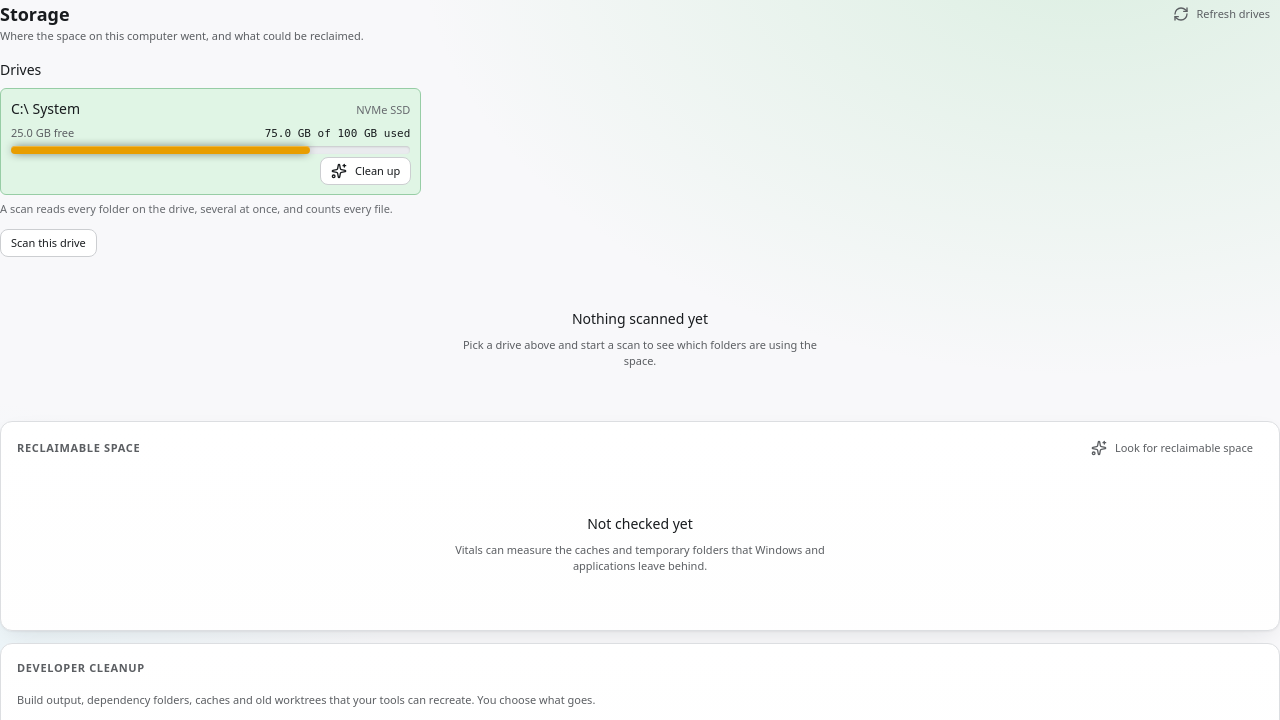
Scenario: StorageScreen › scanning › scans the whole drive: there is no depth choice to make
The image size is (1280, 720).
Check: the heading "Storage" is shown, box [0, 2, 70, 26]
Click the button "Scan this drive": (48, 243) [0, 229, 97, 257]
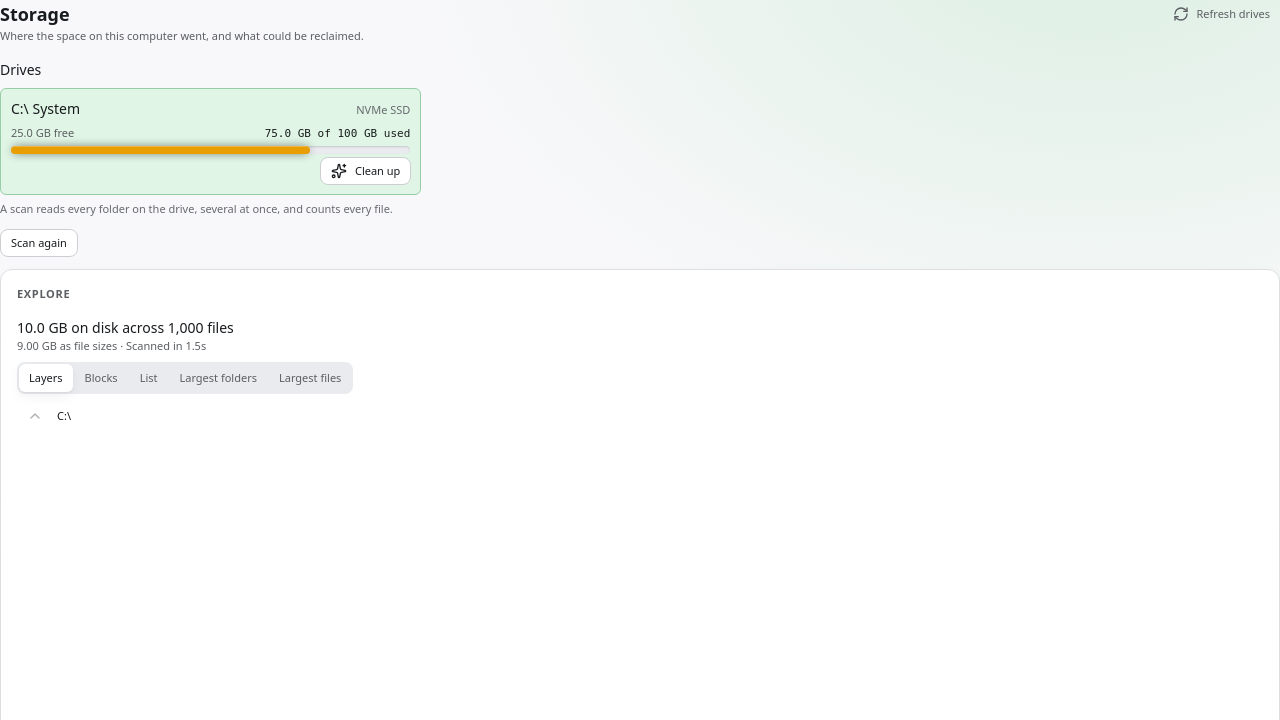
Check: the heading "Explore" is shown, box [17, 286, 70, 301]
